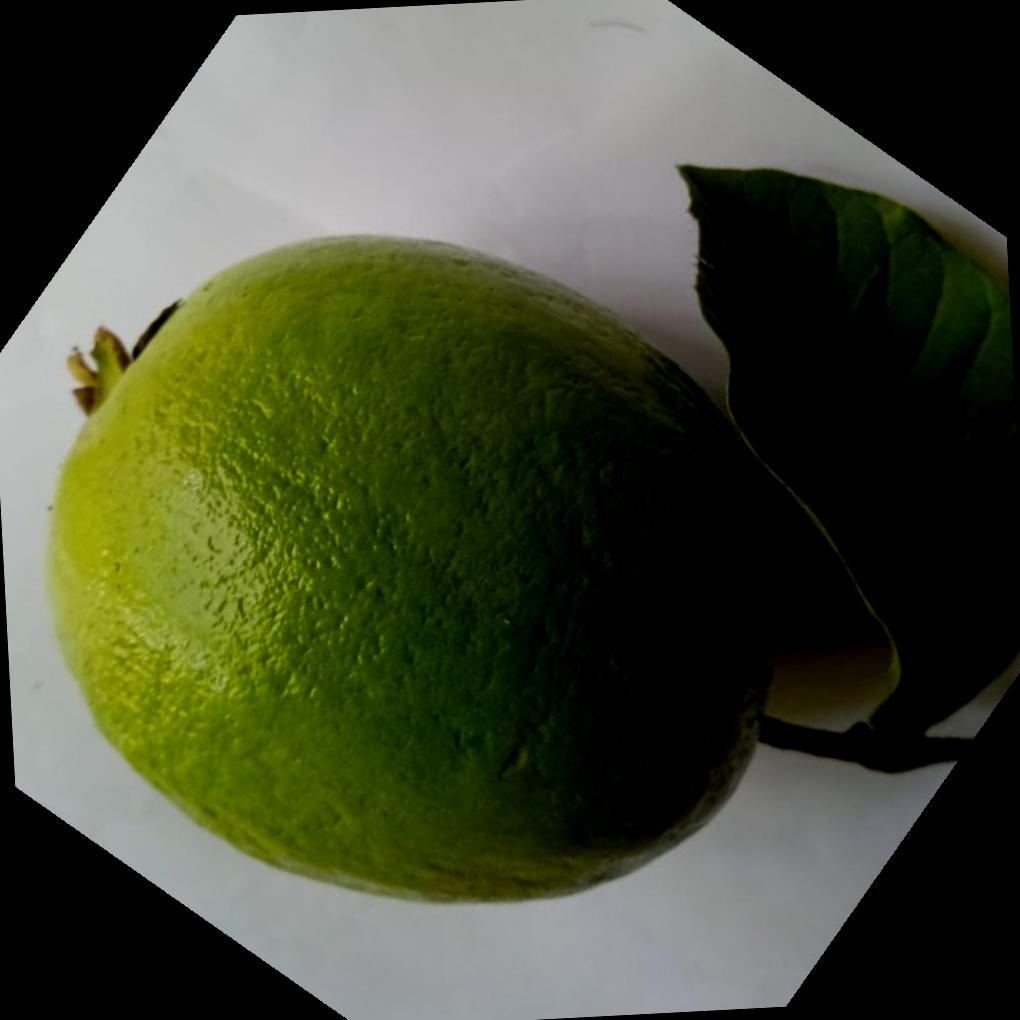FreshGuava: (42, 228, 787, 900)
